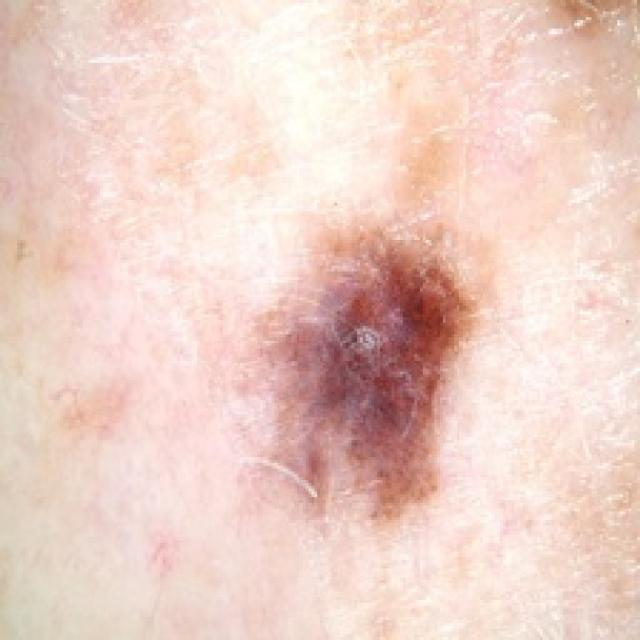cancer: (211, 215, 504, 538)
